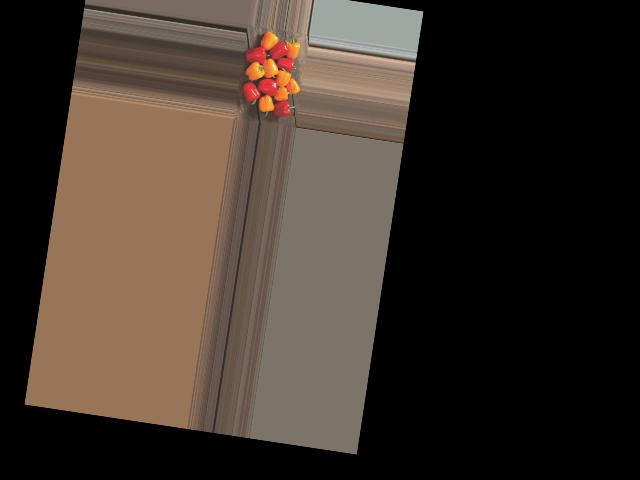bell_pepper: (255, 29, 279, 56)
